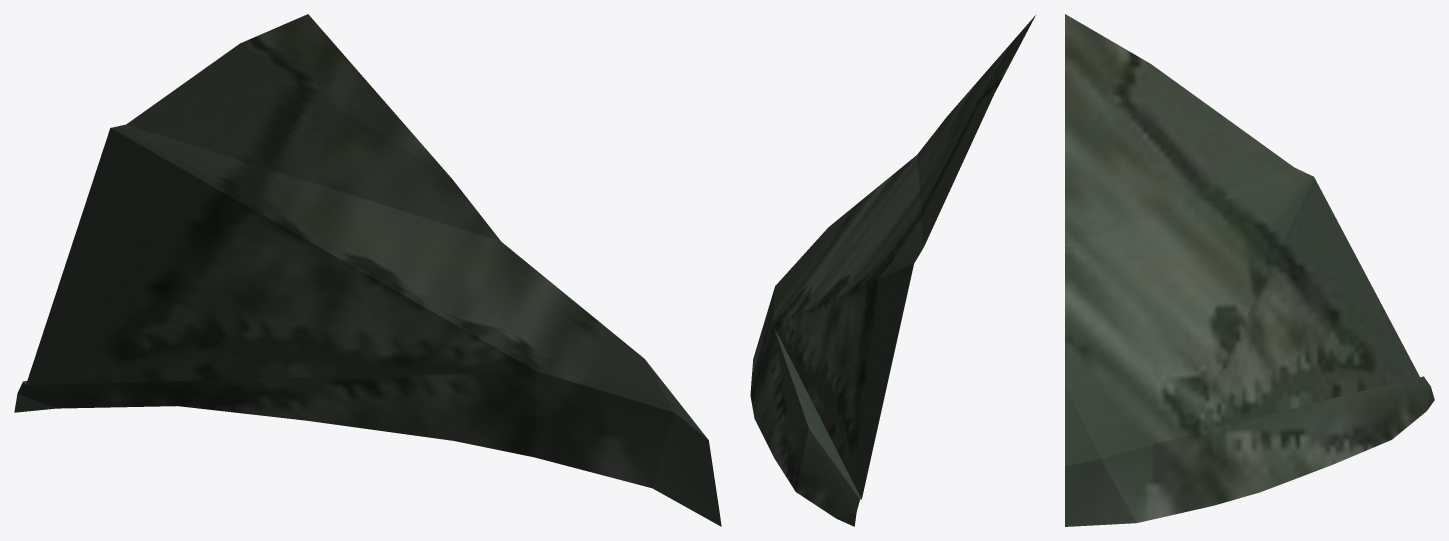
3 renders of one model, left to right at view 1: azimuth 30°, elevation 25°; view 2: azimuth 150°, elevation 25°; view 3: azimuth 270°, elevation 25°, orthographic. The views are drawn at different scales.
Size of the model in its own units: 1.16 by 1.64 by 1.42.
Materials: 1 (1 with a texture image).
